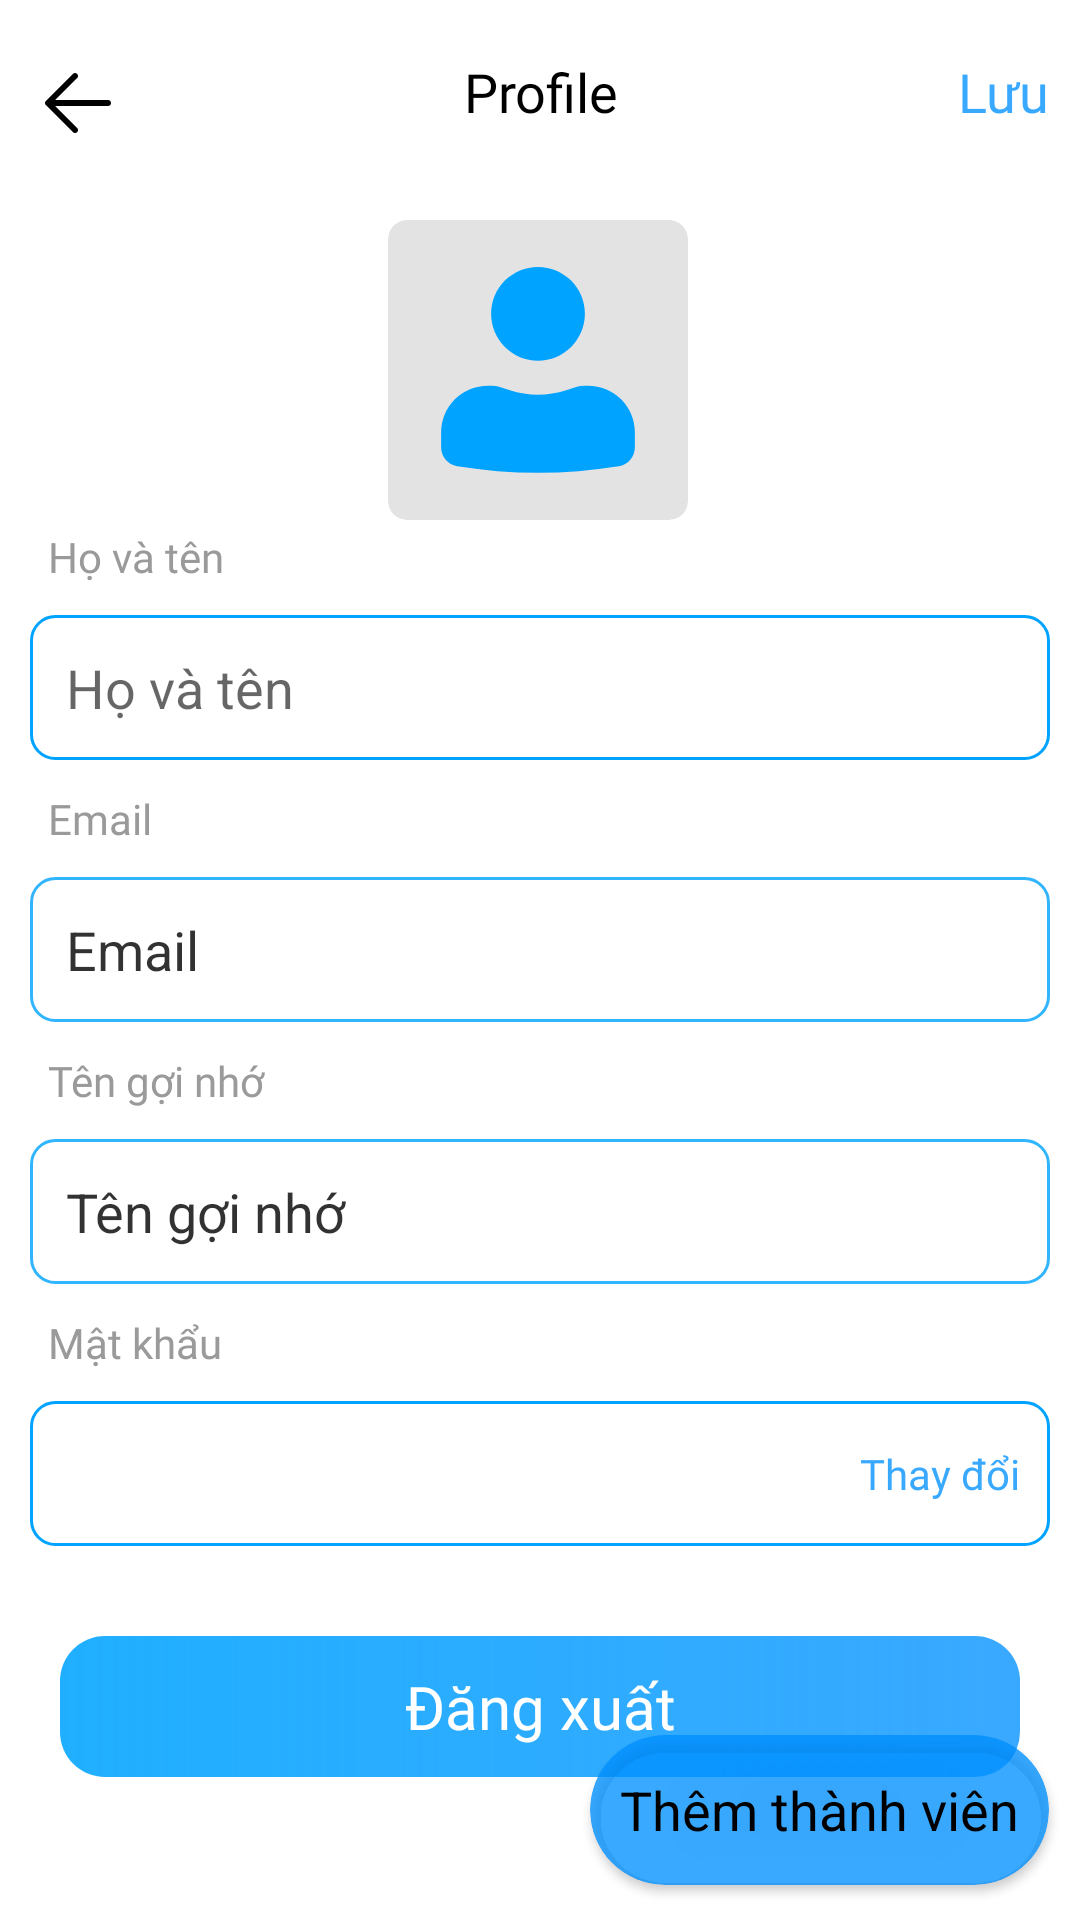

Screen size 1080 × 1920. Icon name, then its center in pixels as [x,y]:
arrow back: [78,103]
